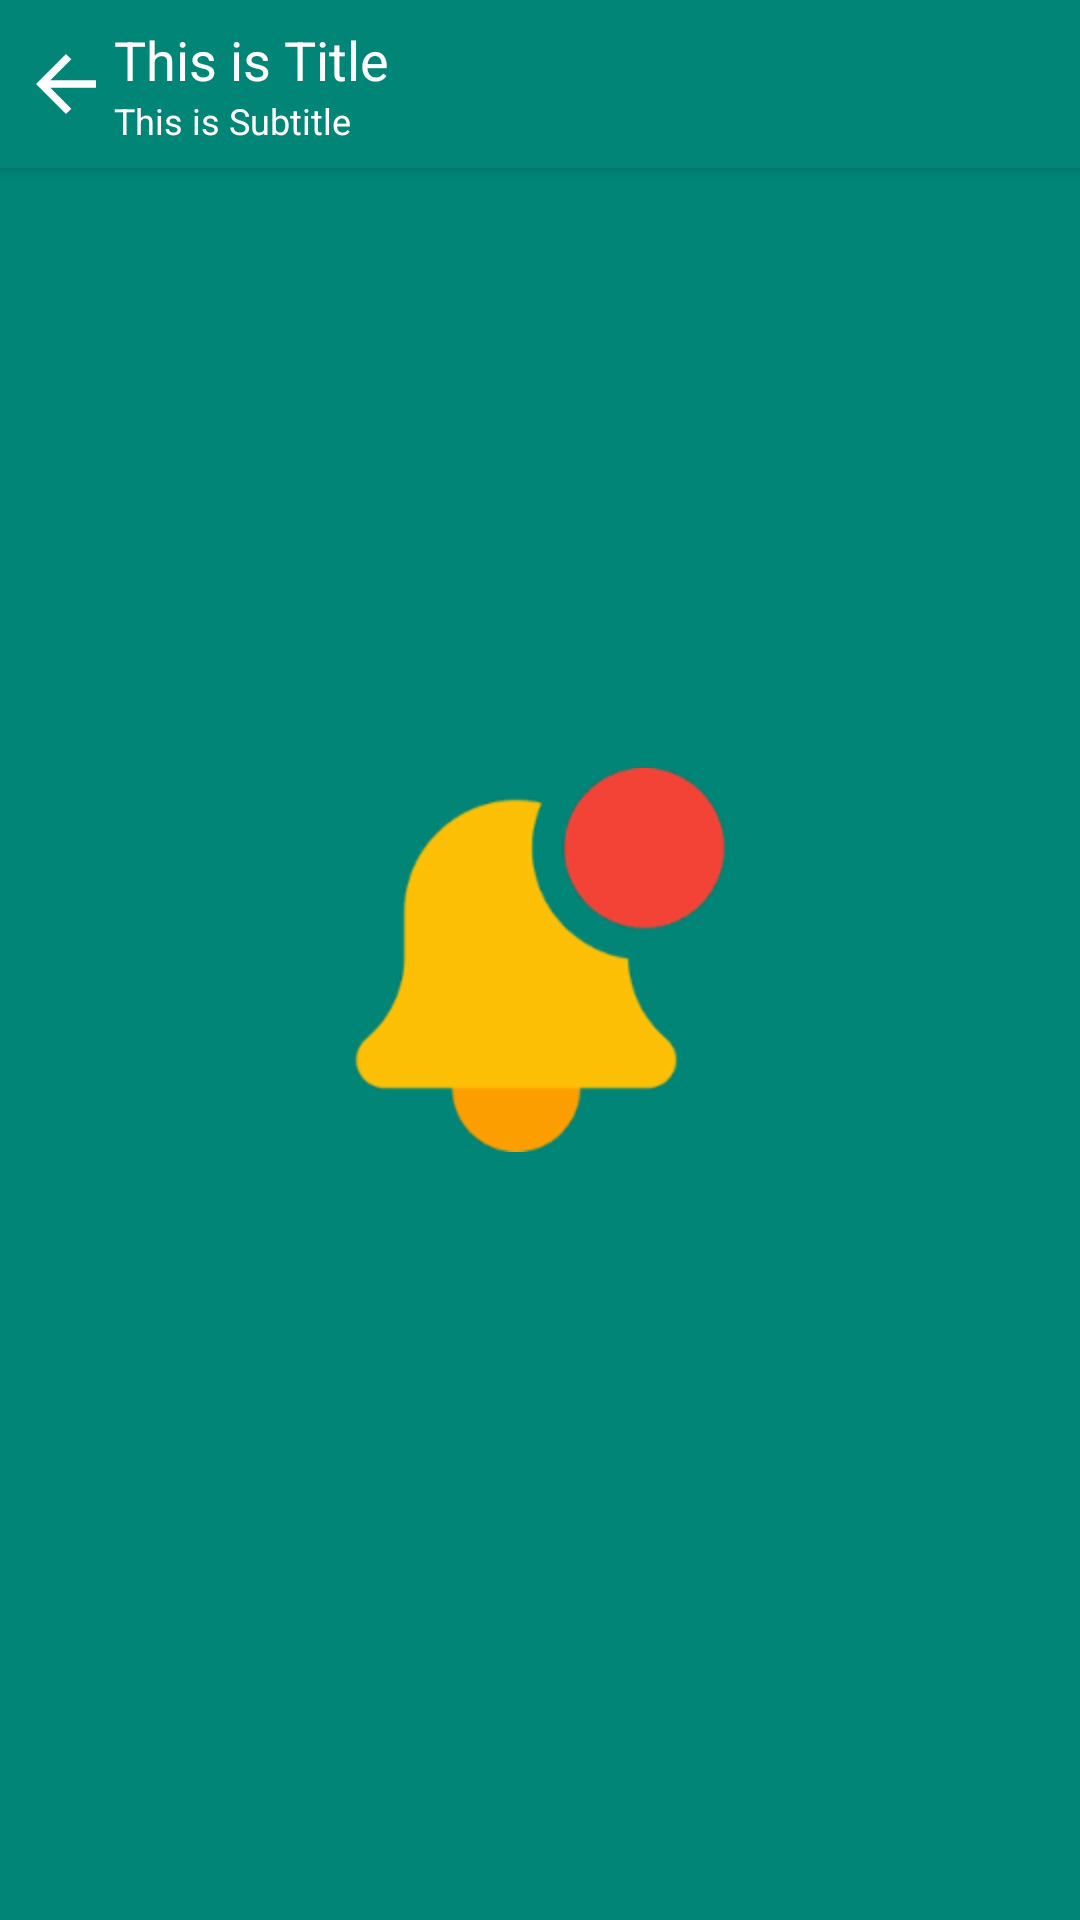

Named icons in this screenshot (1080x1920) and their bounding boxes, (x1, y1, x2, y2):
arrow back: (36, 54, 96, 114)
